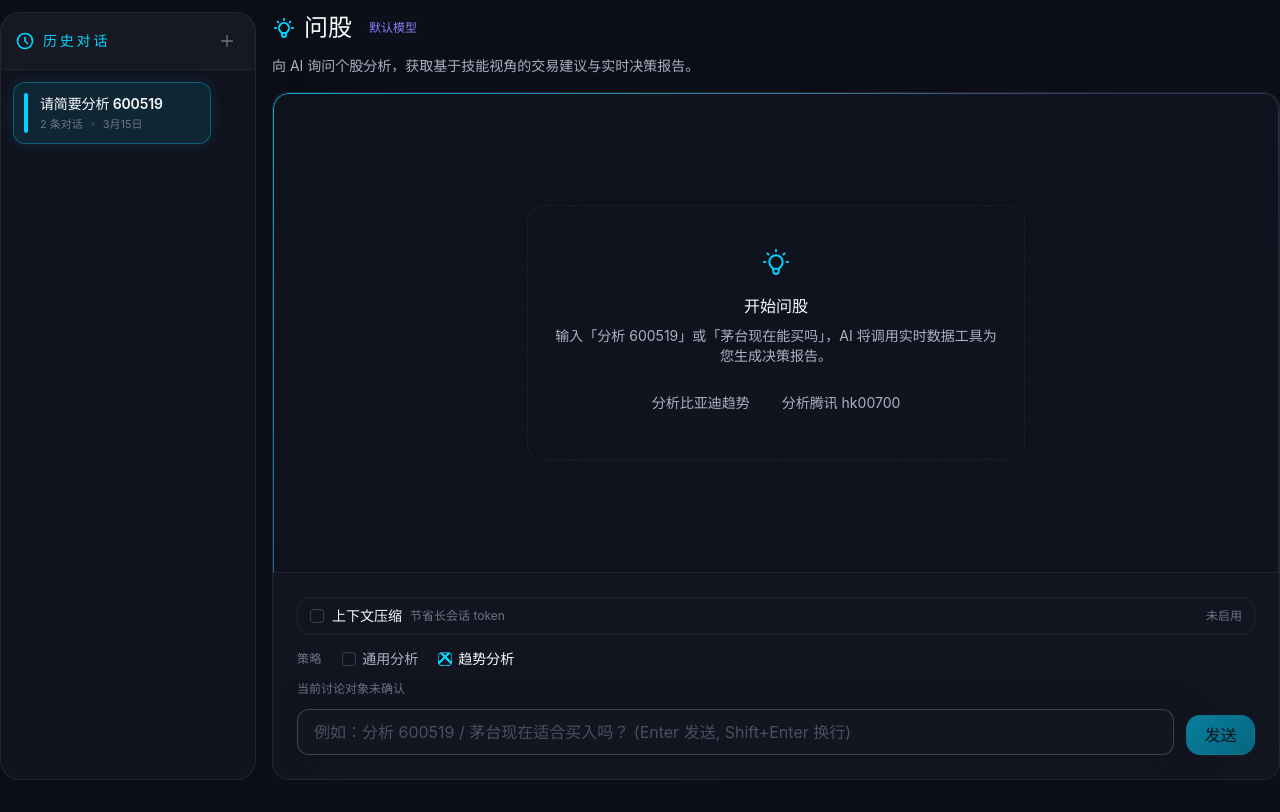
ChatPage › sends an explicit empty skills list when all concrete skills are cleared
Later steps or results of the test are not shown.
Click the checkbox labelled "趋势分析" at point(445, 659), box [438,652,452,666]
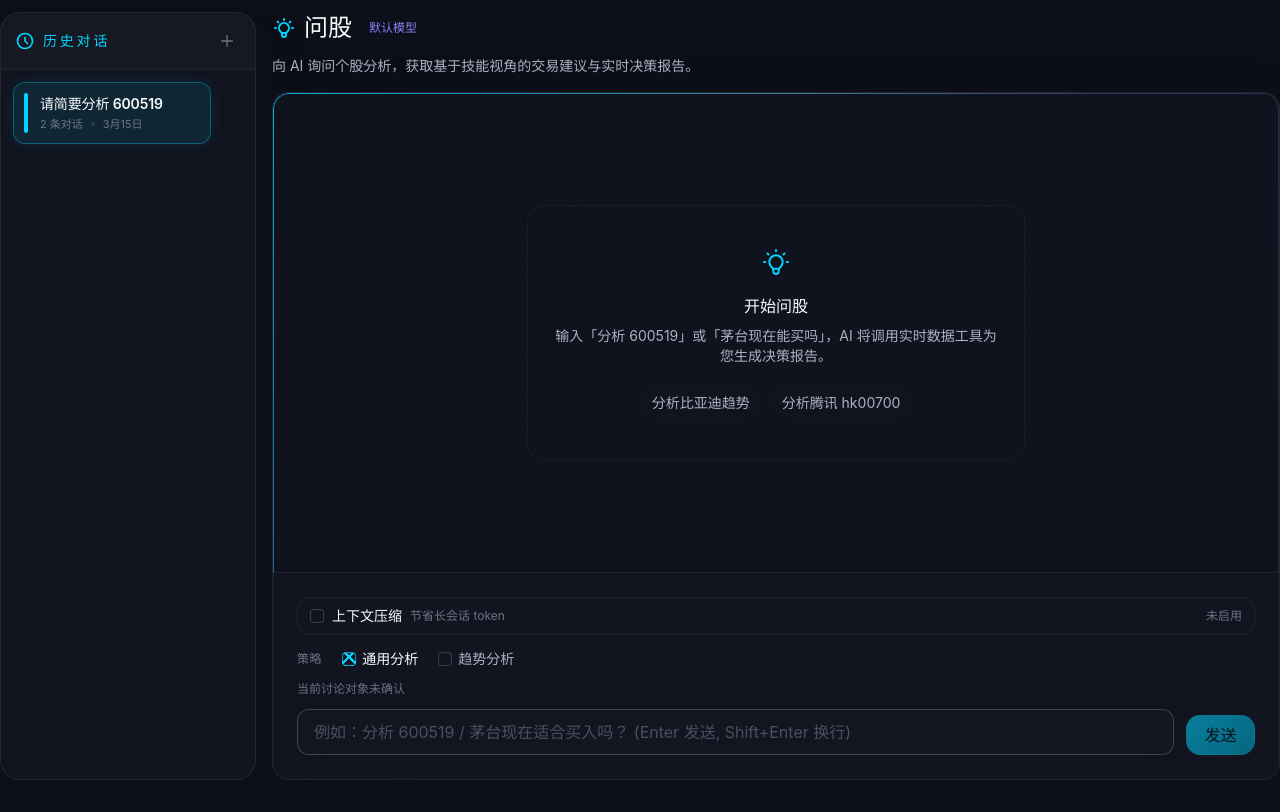
Now the checkbox labelled "通用分析" is checked, box [342,652,356,666]
